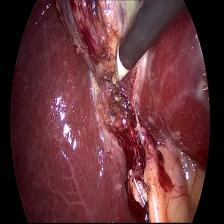Hook: (108, 43, 131, 91)
